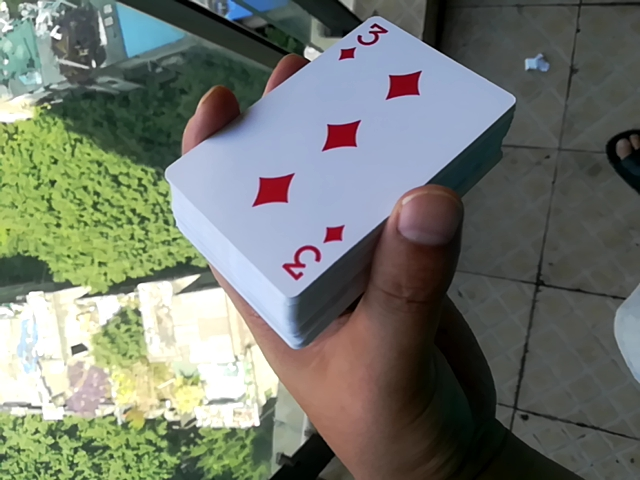fk 3: (170, 13, 488, 353)
